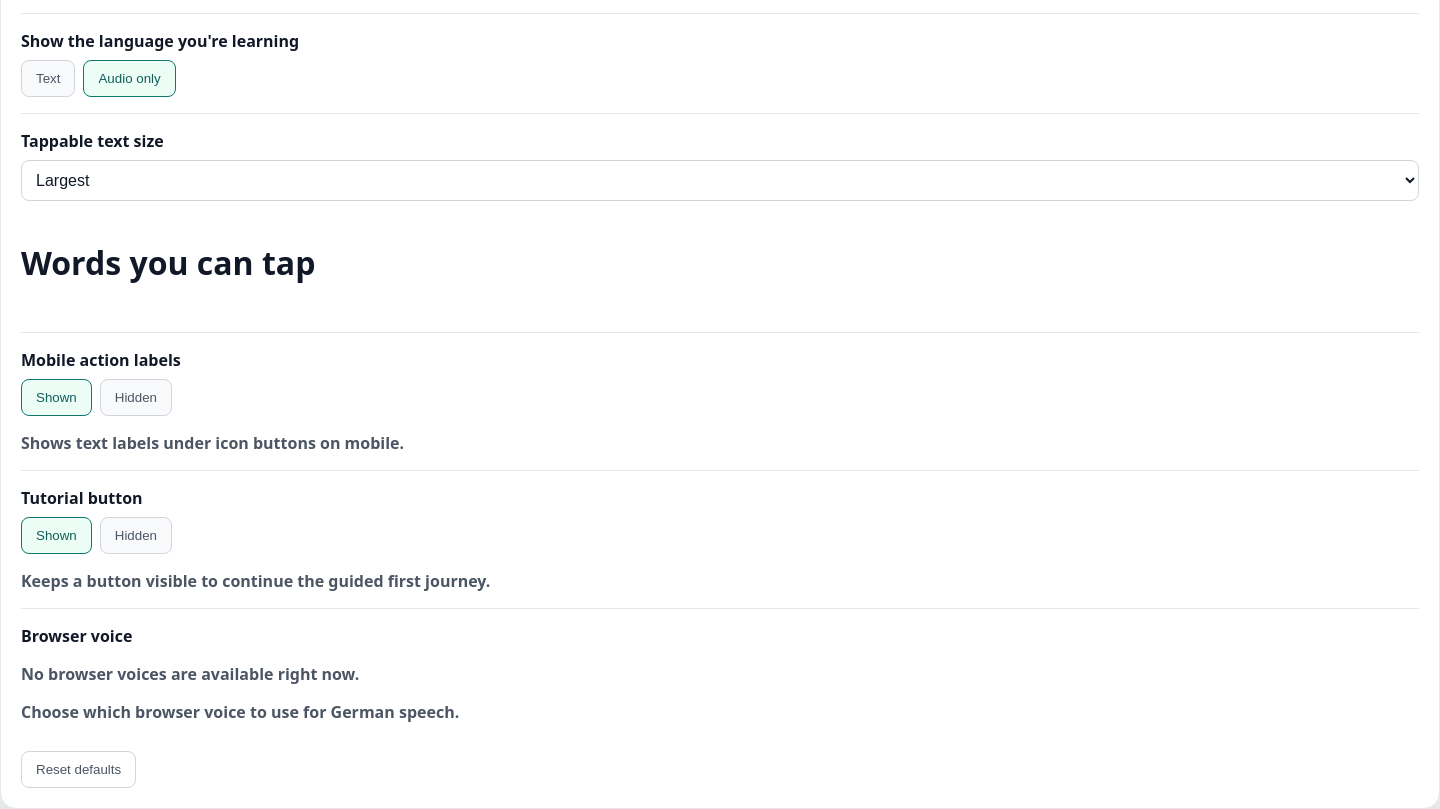
Scenario: resets the study text size with the other configuration defaults
(page scrolled)
Click the button "Reset defaults". click: click(79, 770)
box: [21,751,136,788]
(page scrolled)
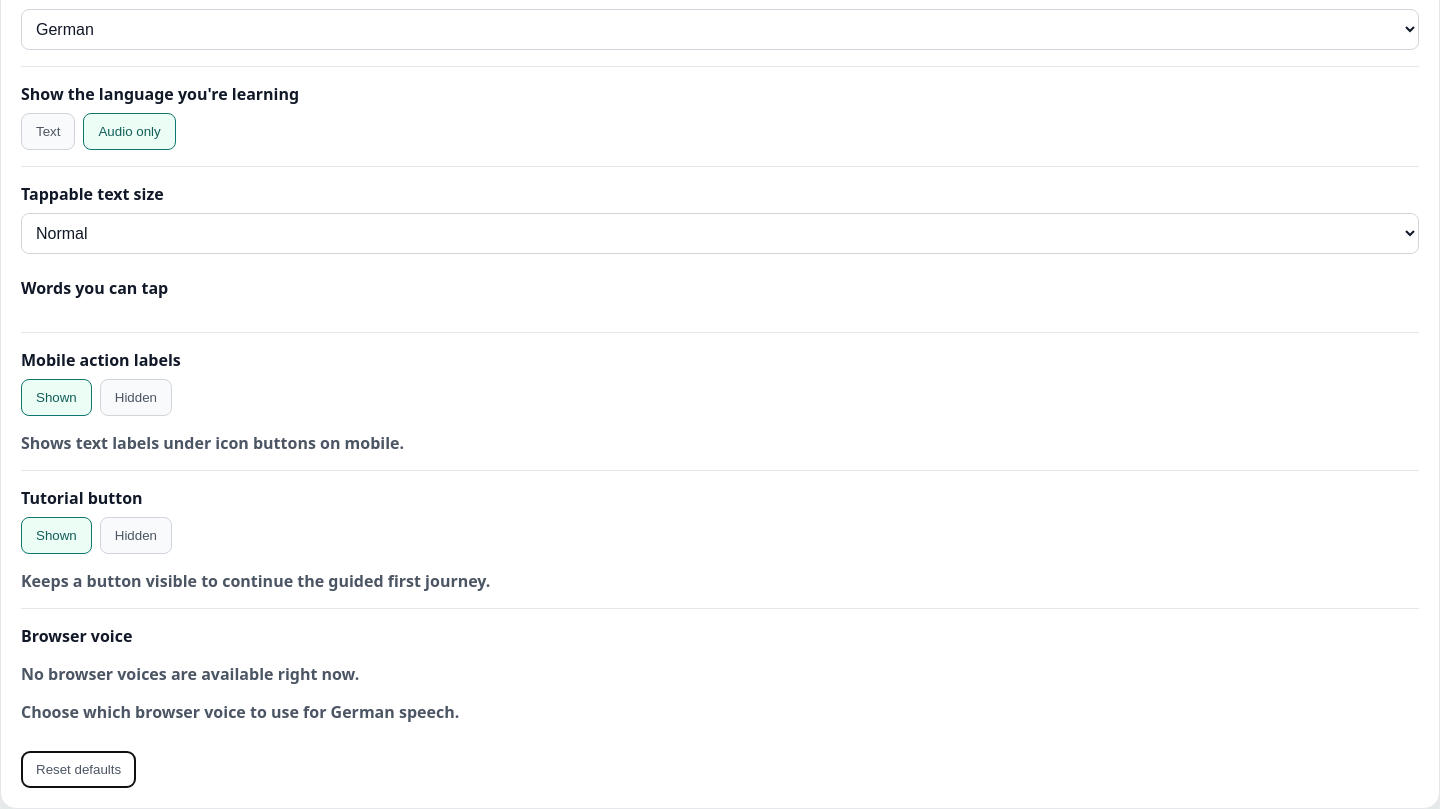
Check: the dropdown labelled "Tappable text size" shows "Normal", box [21,213,1419,254]
